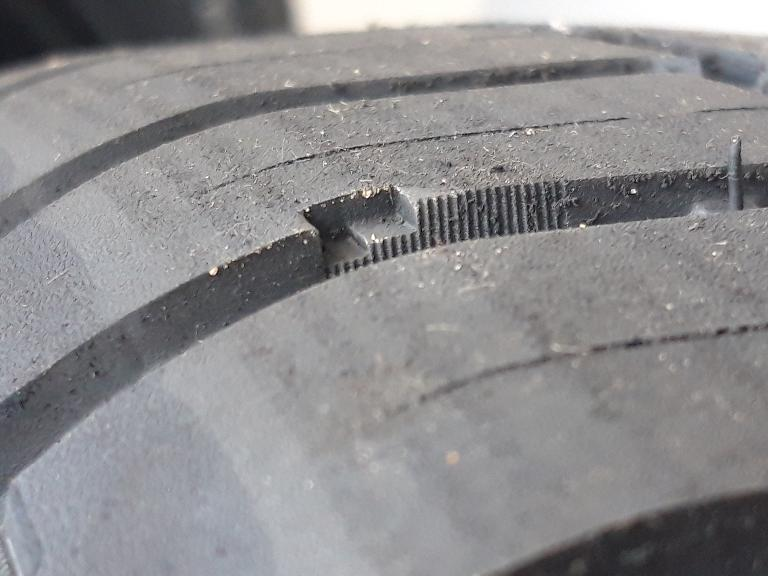temoin:50: (295, 174, 480, 284)
